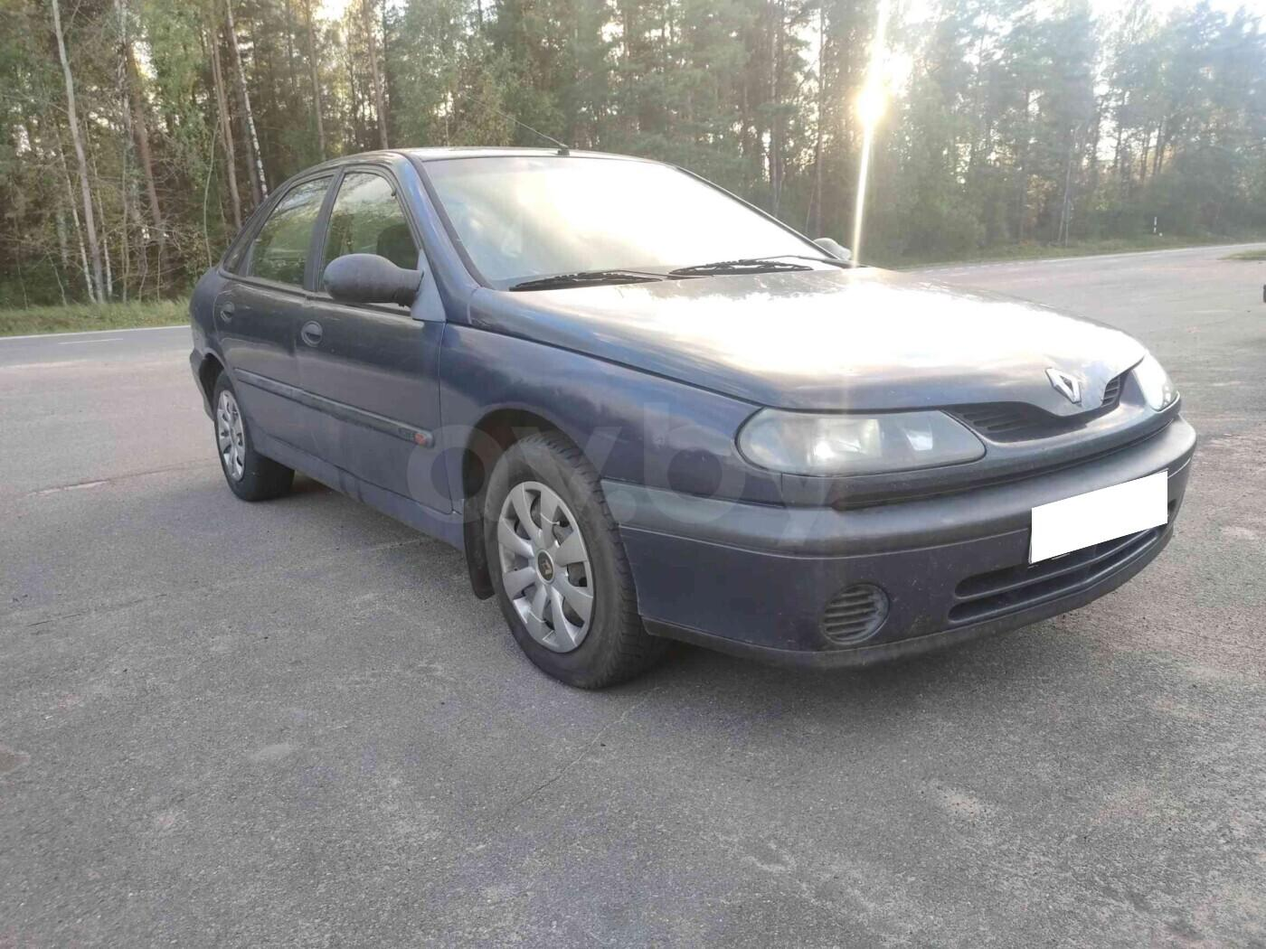Laguna_1998-2001: (185, 146, 1205, 682)
